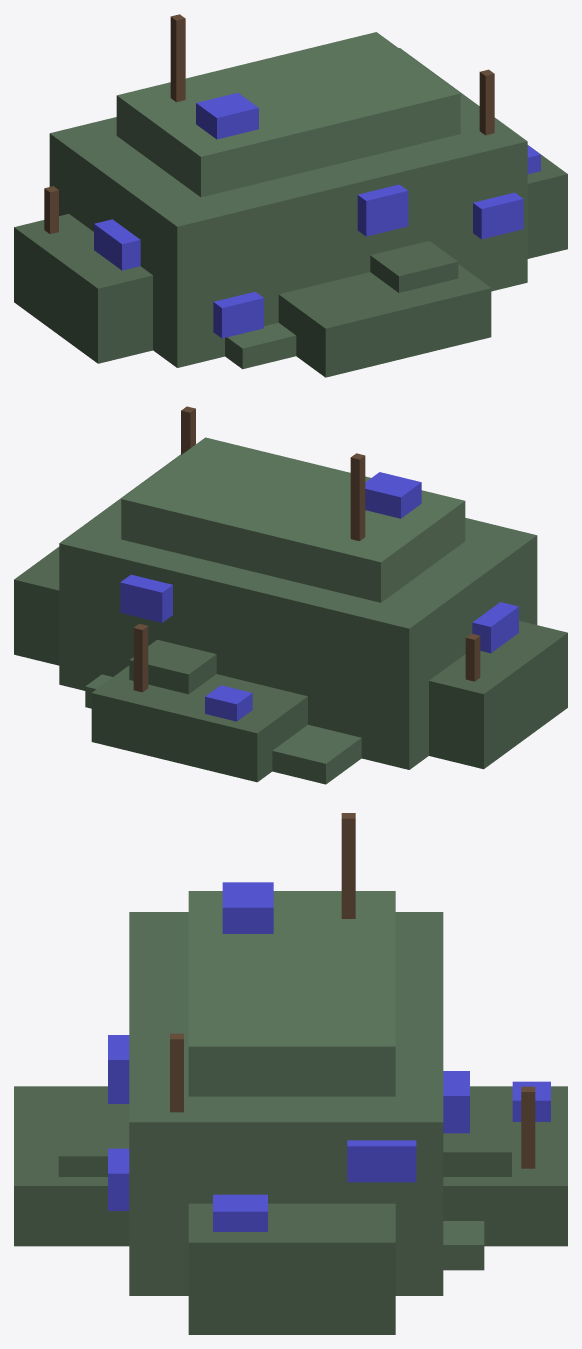
File: shrubbery-4th.fbx
The picture shows the model from 3 angles, top to bottom: view 1: azimuth 30°, elevation 25°; view 2: azimuth 150°, elevation 25°; view 3: azimuth 270°, elevation 25°; orthographic projection. The views are drawn at different scales.
Visible parts, largest first — view 1: polySurface2; view 2: polySurface2; view 3: polySurface2.
Part boxes in pixels (left/top/right/bottom): polySurface2: left=14, top=14, right=567, bottom=377; polySurface2: left=14, top=406, right=567, bottom=784; polySurface2: left=14, top=813, right=567, bottom=1334.
Size of the model in its own units: 3.18 by 1.7 by 2.64.
